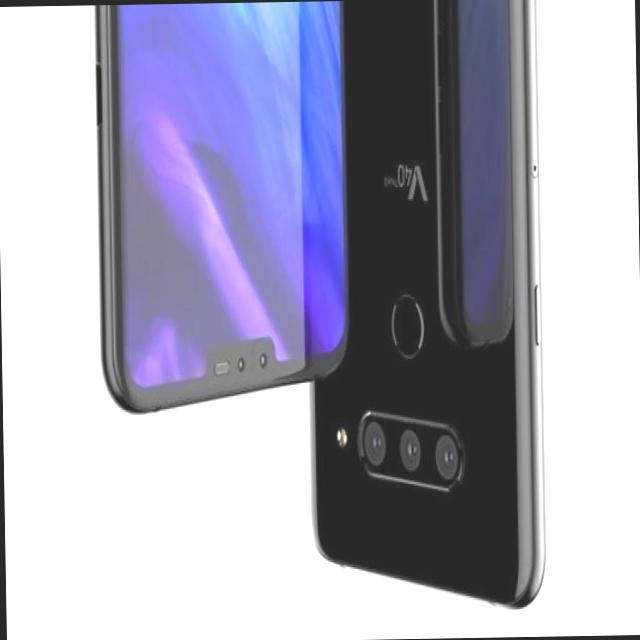lens_back: (353, 413, 388, 468), (431, 432, 462, 486), (392, 424, 425, 472), (232, 345, 248, 380), (252, 344, 273, 370)
phone: (294, 0, 553, 616), (91, 0, 349, 420)
